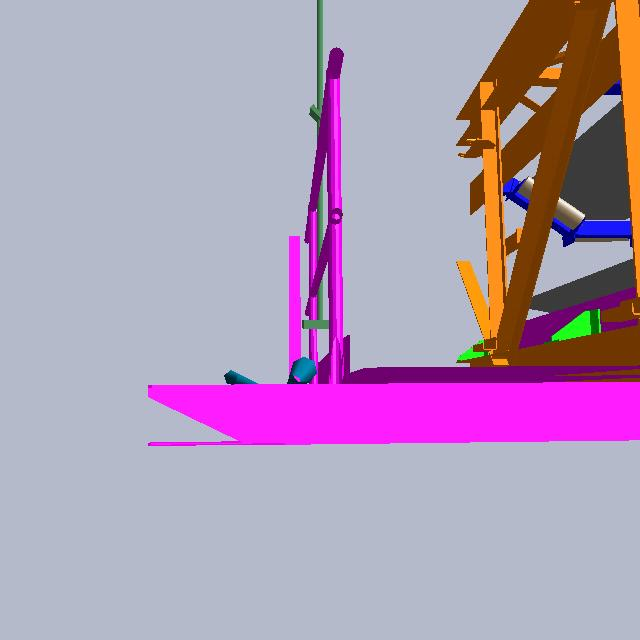Poste: (302, 1, 342, 342)
Soporte: (274, 225, 314, 402)
